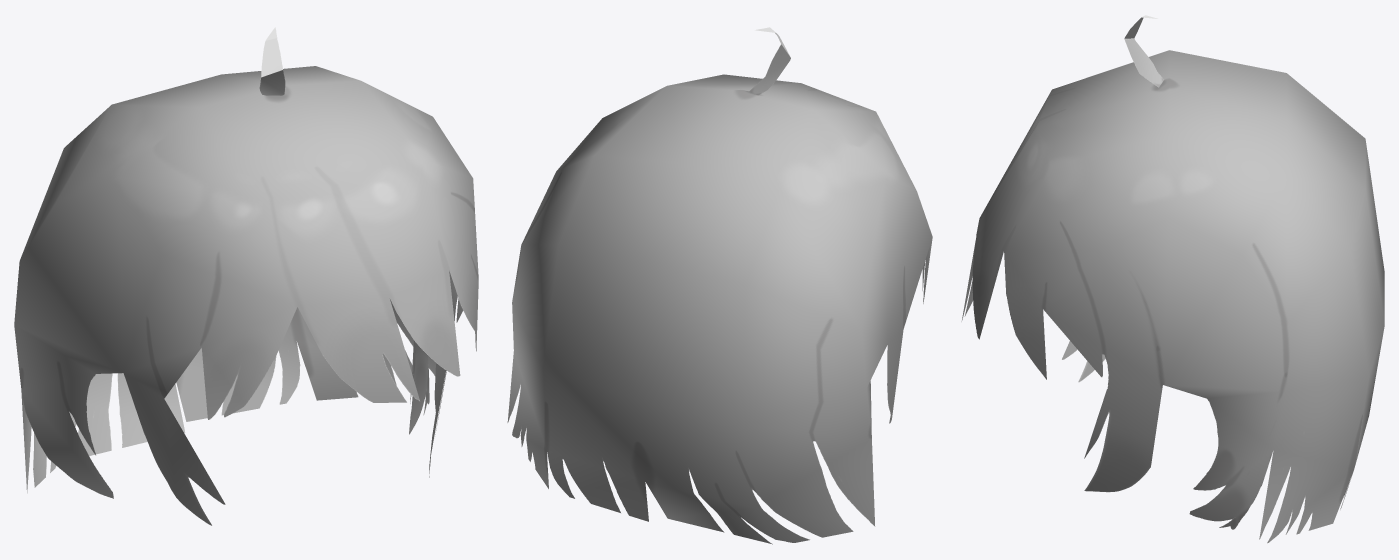
Rendered from HAIR2.FBX.
The picture shows the model from 3 angles, left to right: view 1: azimuth 30°, elevation 25°; view 2: azimuth 150°, elevation 25°; view 3: azimuth 270°, elevation 25°; orthographic projection. The views are drawn at different scales.
Parts seen in each view (by area): view 1: Sphere001; view 2: Sphere001; view 3: Sphere001.
Part boxes in pixels (<box>): Sphere001: <box>14,27,478,525</box>; Sphere001: <box>507,27,932,544</box>; Sphere001: <box>961,15,1384,543</box>.
Size of the model in its own units: 64.68 by 71.34 by 61.35.
